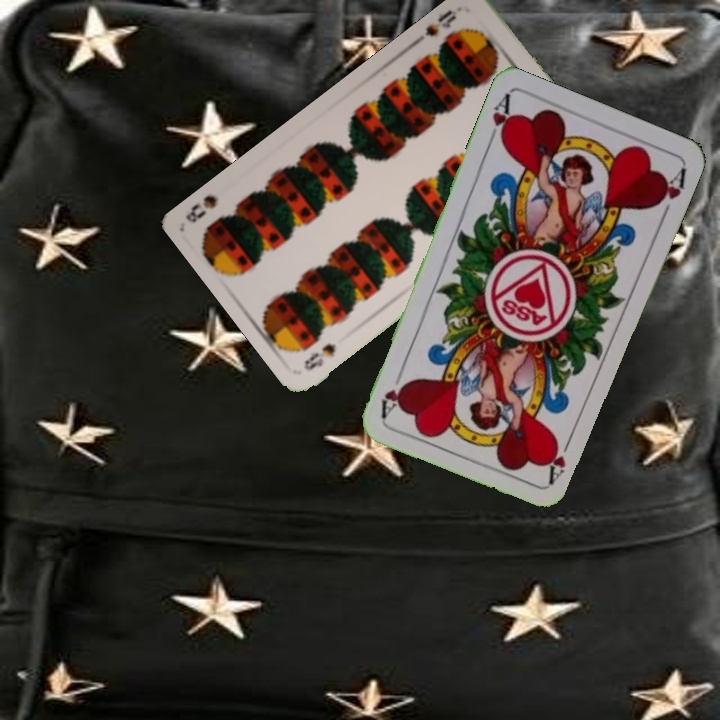HA: (484, 90, 516, 148), (544, 430, 576, 487)
S8: (420, 5, 461, 40), (299, 339, 338, 374)
